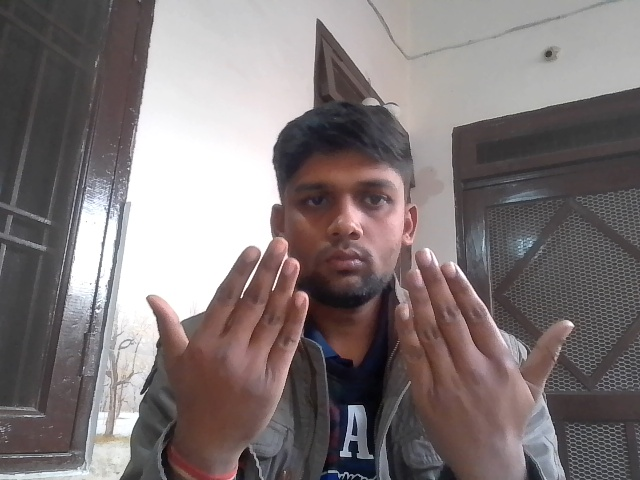ThankYou: (135, 229, 579, 450)
